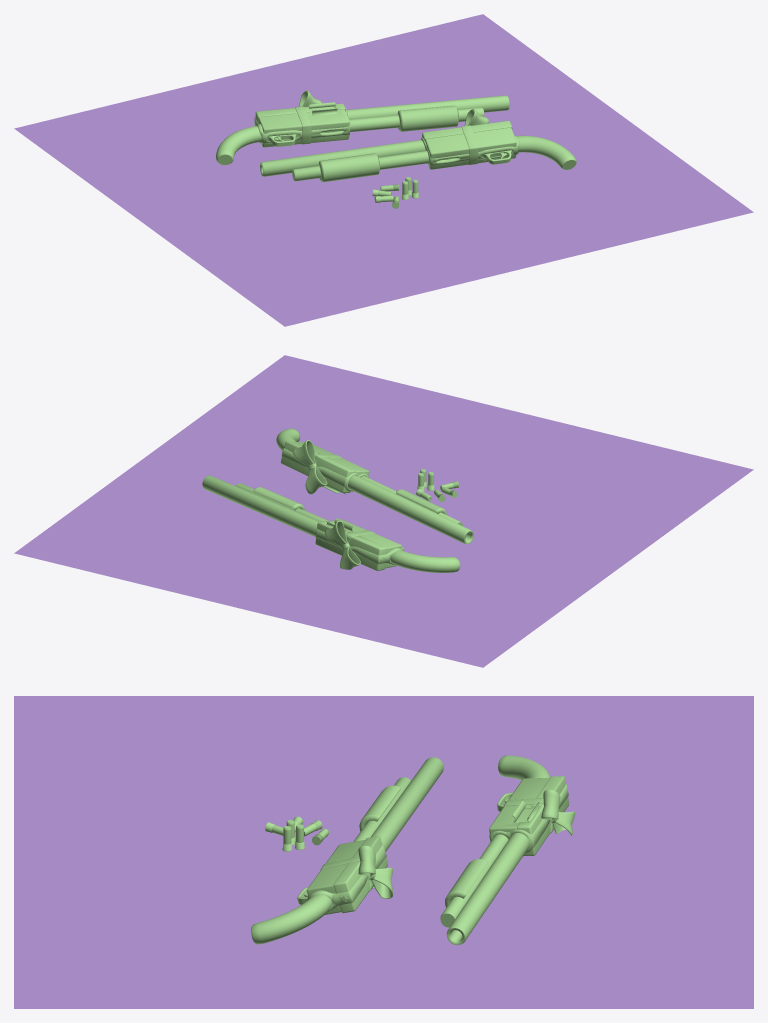
The picture shows the model from 3 angles, top to bottom: view 1: azimuth 30°, elevation 25°; view 2: azimuth 150°, elevation 25°; view 3: azimuth 270°, elevation 25°; orthographic projection. The views are drawn at different scales.
Visible parts, largest first — view 1: Plane001, LOWPOLYFIXED, LOWPOLYFIXED001; view 2: Plane001, LOWPOLYFIXED001, LOWPOLYFIXED; view 3: Plane001, LOWPOLYFIXED001, LOWPOLYFIXED.
Boxes of the visible parts, x1,y1,x2,y2 form: Plane001: [14, 14, 753, 326]; LOWPOLYFIXED: [260, 109, 576, 182]; LOWPOLYFIXED001: [216, 90, 509, 165]; Plane001: [14, 355, 753, 667]; LOWPOLYFIXED001: [202, 475, 460, 572]; LOWPOLYFIXED: [276, 428, 473, 544]; Plane001: [14, 696, 753, 1008]; LOWPOLYFIXED001: [440, 755, 575, 945]; LOWPOLYFIXED: [251, 757, 443, 944].
Bounding box in the file's own units: 70 × 7.45 × 70.
